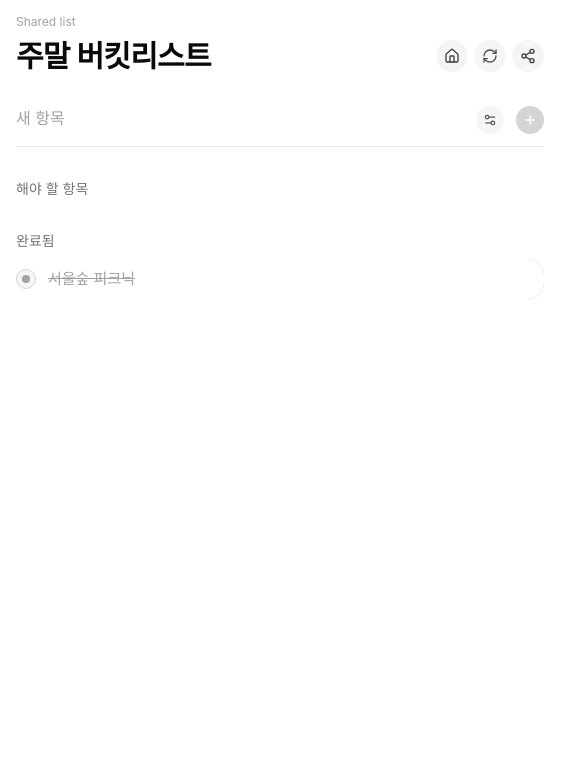
Scenario: SharedListPage › deletes a completed item after swipe reveal and undo restores it as completed
Press the mouse on the element with test id "swipe-row-item-done" at (280, 279), box [16,259,544,299]
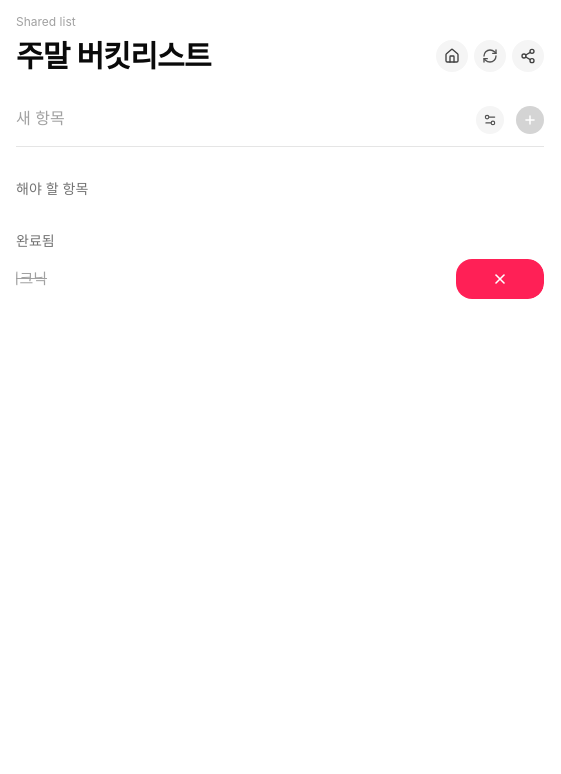
Click the button named "서울숲 피크닉 삭제" at (500, 279), box [456,259,544,299]
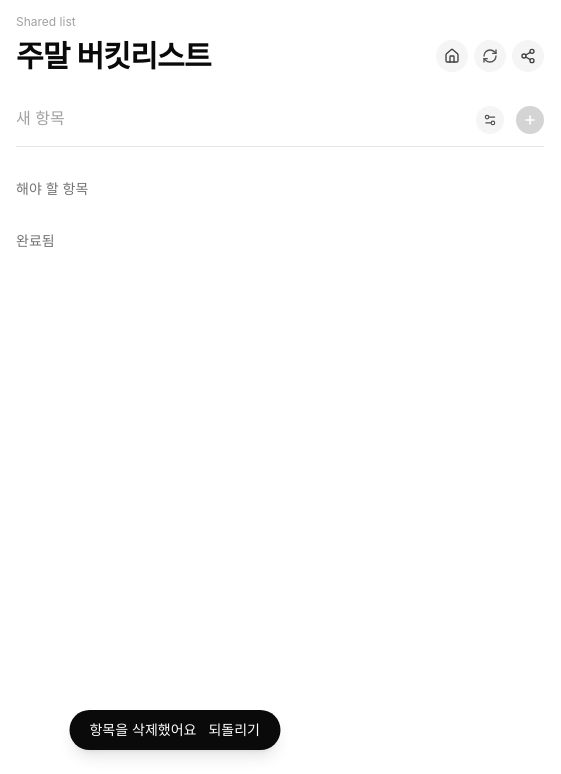
Now the heading "서울숲 피크닉" is gone
Now the text "항목을 삭제했어요" is shown, box [90,720,196,740]
Click the button "되돌리기" at (234, 730), box [208,720,260,740]
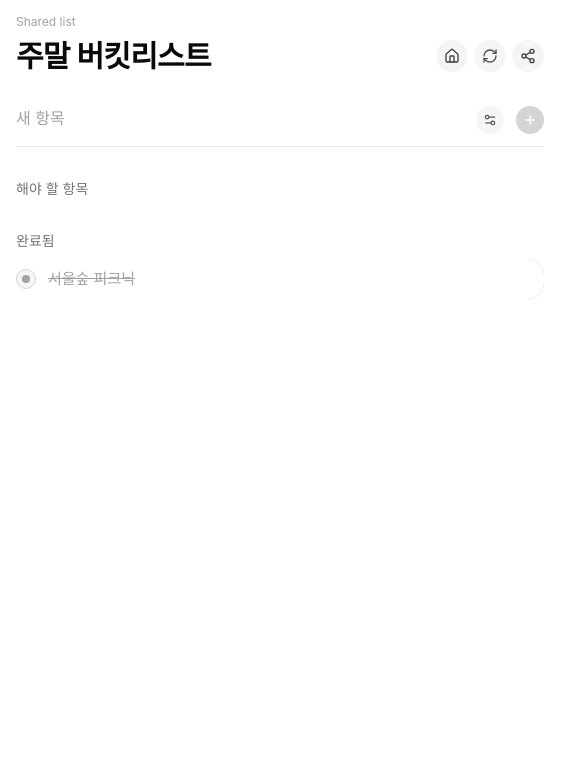
Now the heading "서울숲 피크닉" is shown, box [48,269,135,288]
